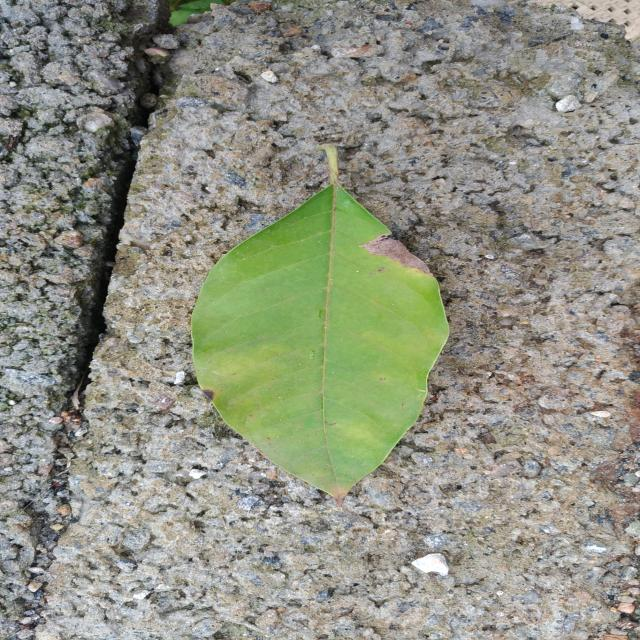coffee: (191, 144, 449, 506)
